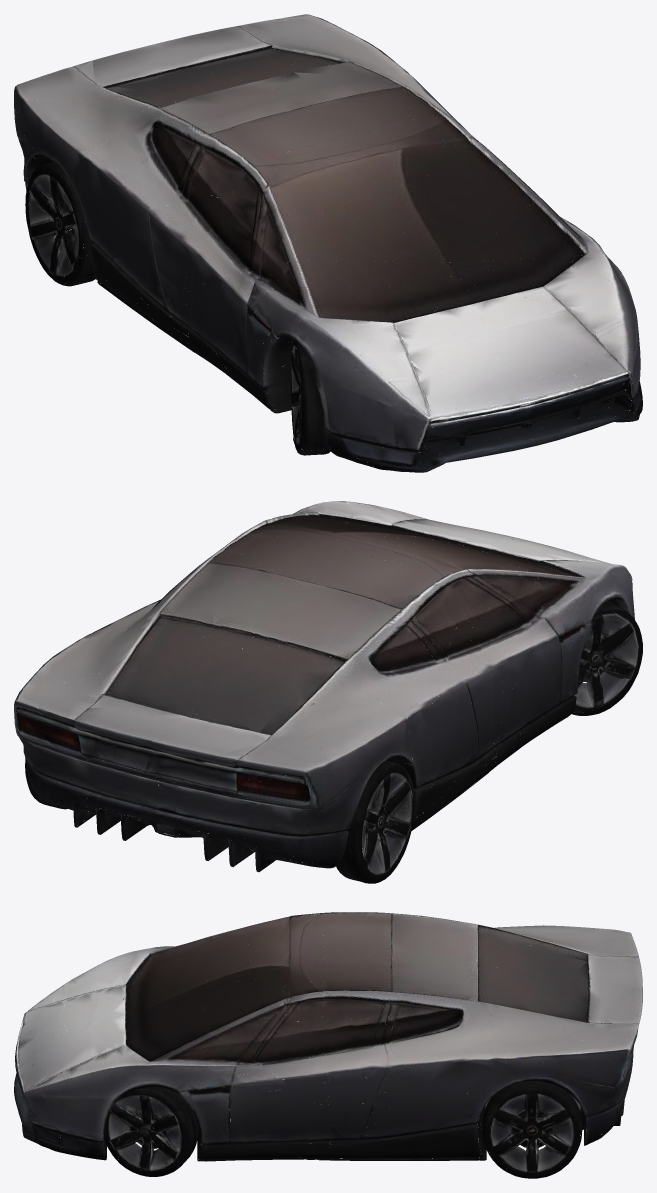
File: player_roadster_game.glb
3 renders of one model, top to bottom at view 1: azimuth 30°, elevation 25°; view 2: azimuth 150°, elevation 25°; view 3: azimuth 270°, elevation 25°, orthographic. The views are drawn at different scales.
Parts seen in each view (by area): view 1: tripo_node_a3d89100-53b6-4e1c-afd6-ac07352b5506; view 2: tripo_node_a3d89100-53b6-4e1c-afd6-ac07352b5506; view 3: tripo_node_a3d89100-53b6-4e1c-afd6-ac07352b5506.
Part boxes in pixels (bbox=[...]): tripo_node_a3d89100-53b6-4e1c-afd6-ac07352b5506: bbox=[14, 14, 642, 472]; tripo_node_a3d89100-53b6-4e1c-afd6-ac07352b5506: bbox=[14, 501, 642, 883]; tripo_node_a3d89100-53b6-4e1c-afd6-ac07352b5506: bbox=[14, 912, 642, 1178].
Size of the model in its own units: 2.23 by 1.27 by 4.3.
1 material, 1 textured.
